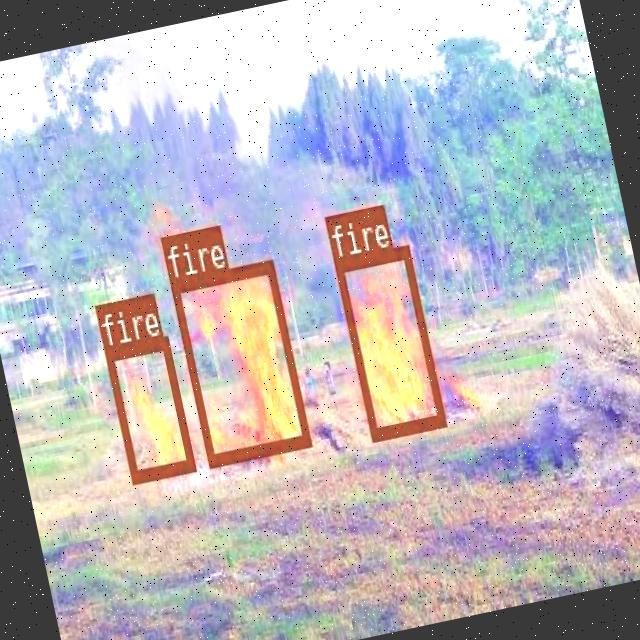fire: (168, 260, 309, 466), (333, 244, 444, 438), (104, 335, 194, 481)
